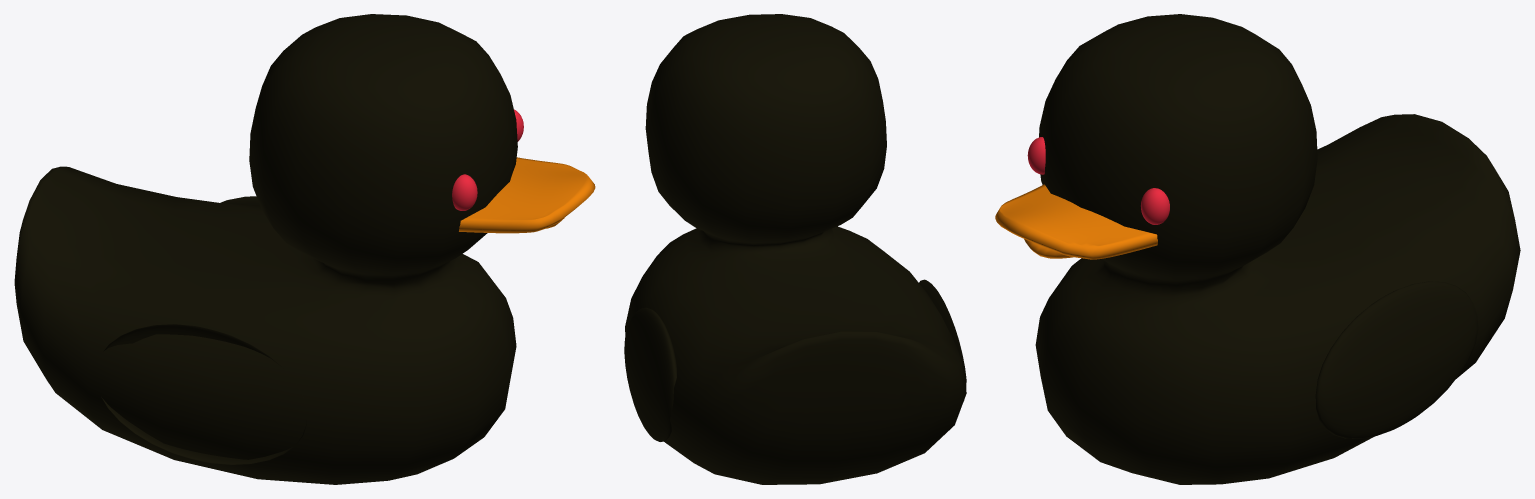
Rendered from EvilDucky.fbx.
3 views of the same model, side by side, from view 1: azimuth 30°, elevation 25°; view 2: azimuth 150°, elevation 25°; view 3: azimuth 270°, elevation 25° (orthographic). The views are drawn at different scales.
Parts seen in each view (by area): view 1: EvilDucky; view 2: EvilDucky; view 3: EvilDucky.
Part boxes in pixels (x1=…): EvilDucky: x1=14, y1=14, x2=595, y2=484; EvilDucky: x1=624, y1=14, x2=966, y2=484; EvilDucky: x1=995, y1=14, x2=1520, y2=484.
Bounding box in the file's own units: 188 × 176 × 193.
